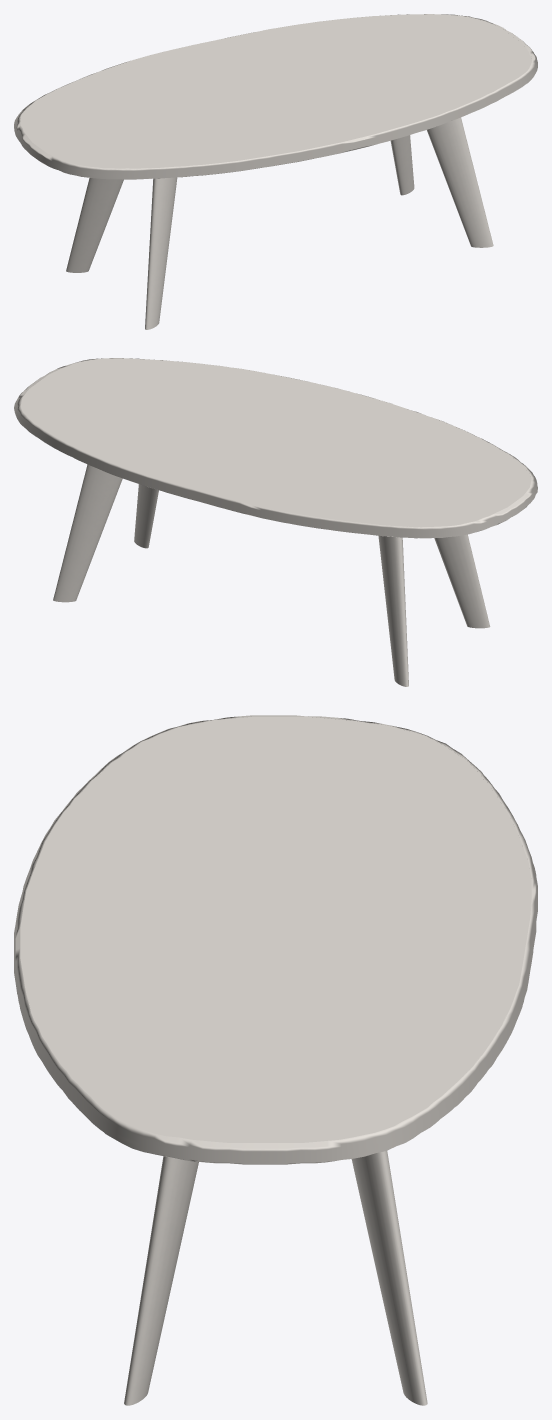
The model's file is pearlwhite_danish_round_ferdinantwalnut.glb.
3 renders of one model, top to bottom at view 1: azimuth 30°, elevation 25°; view 2: azimuth 150°, elevation 25°; view 3: azimuth 270°, elevation 25°, orthographic. The views are drawn at different scales.
Parts seen in each view (by area): view 1: round_danish, ferdinandwalnut; view 2: round_danish, ferdinandwalnut; view 3: round_danish, ferdinandwalnut.
Boxes of the visible parts, box(x1,y1,x2,y2) form: round_danish: box(14, 14, 537, 179); ferdinandwalnut: box(66, 117, 493, 329); round_danish: box(14, 358, 537, 538); ferdinandwalnut: box(53, 464, 490, 686); round_danish: box(14, 715, 537, 1164); ferdinandwalnut: box(124, 1151, 427, 1405).
Bounding box in the file's own units: 7.5 × 2.51 × 3.8.
1 material, 1 textured.
